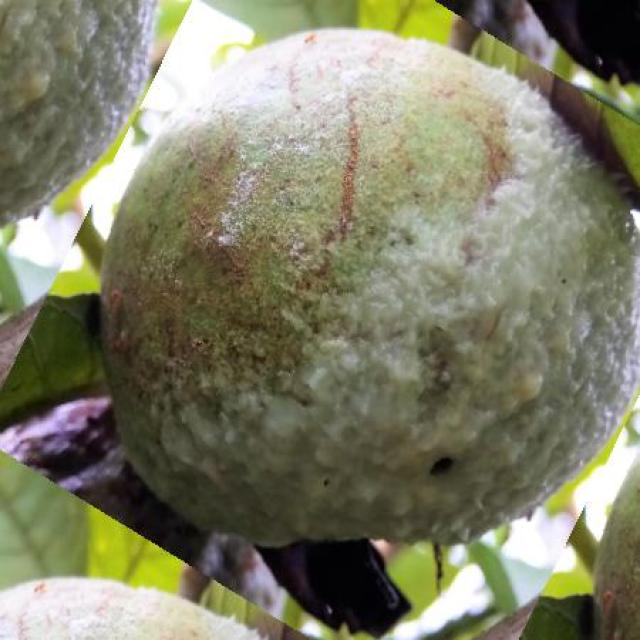Phytopthora: (102, 30, 640, 546)
